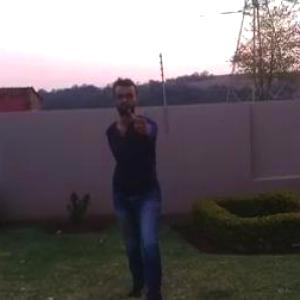takeoff-hand: (128, 102, 158, 143)
